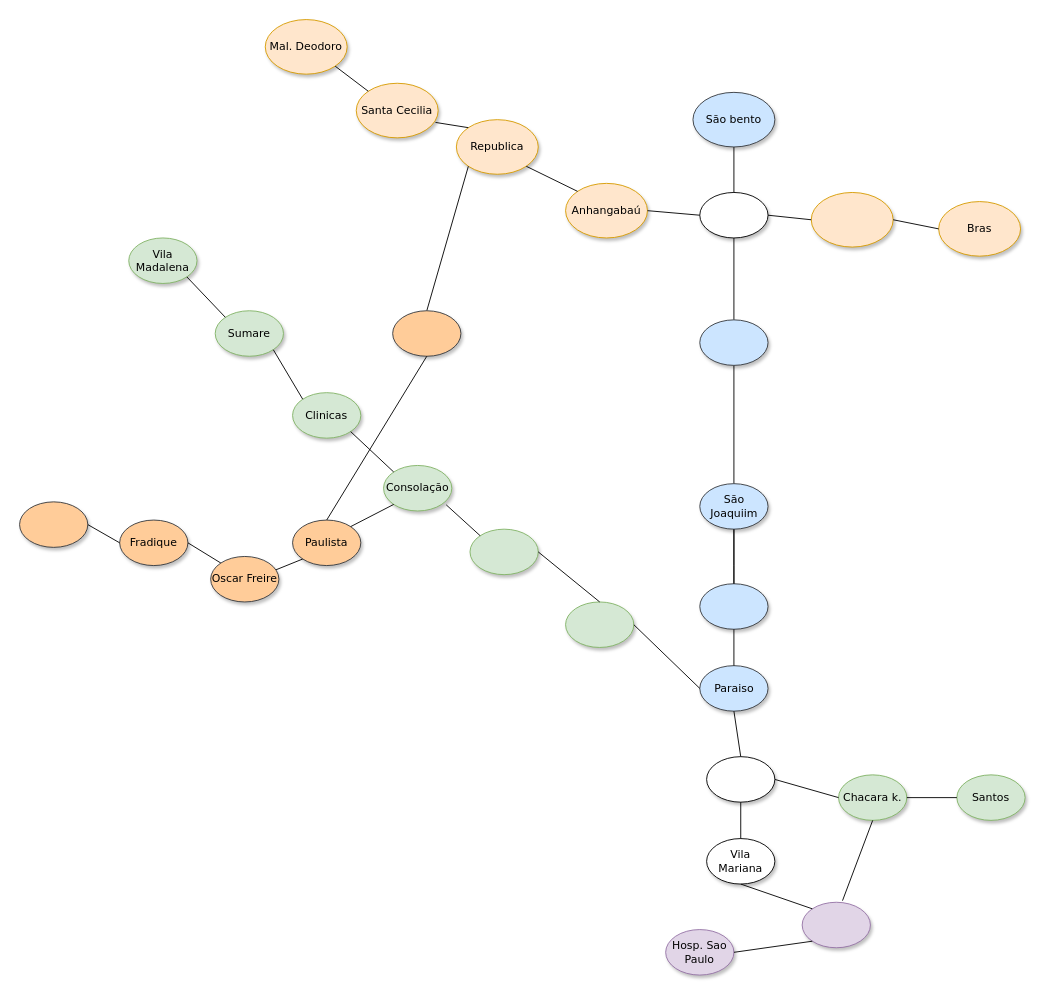
Image size: 1047x997. Some labels were removed from this diagram. The centre of each missing label's shape, as x and y in pixels:
"Ana Rosa" goes at [741,780].
"Brigadeiro" goes at [600,625].
"Faria lima" goes at [54,525].
"Japão - lib" goes at [734,343].
"Mackenzie" goes at [427,334].
"Pedro 2" goes at [853,220].
"Santa Cruz" goes at [837,926].
"Sé" goes at [734,216].
"Trianom" goes at [504,553].
"Vergueiro" goes at [734,607].
